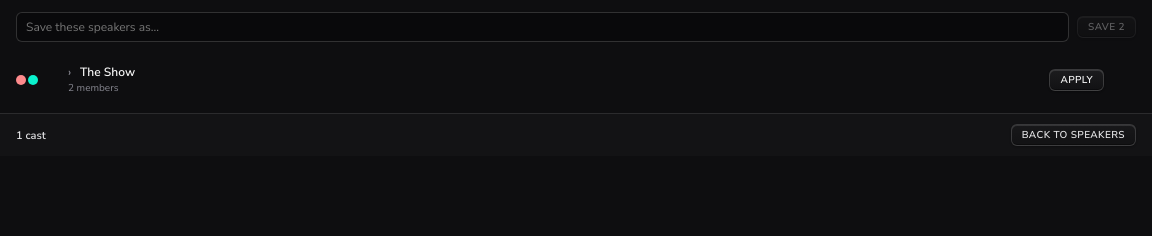
Test: faces from the footage › keeps members collapsed until asked
Expected: the text "Ada" is not shown
What coordinates should you click on to do the following:
click the button with aria-label "Members of The Show"
I would click on:
 (108, 72)
Its box is x1=68 y1=64 x2=1039 y2=95.
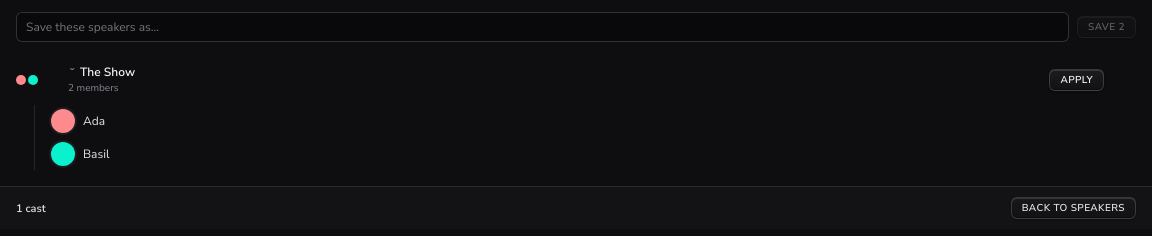
Expected: the text "Ada" is shown, x1=83 y1=113 x2=105 y2=129
